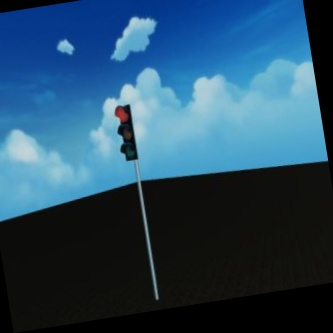sinalRed: (114, 102, 141, 165)
